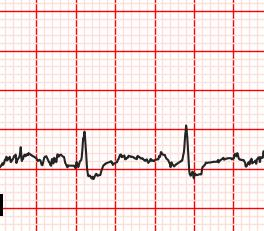Poor R Progression: (75, 129, 97, 169)
ST Depression: (71, 160, 115, 181)
